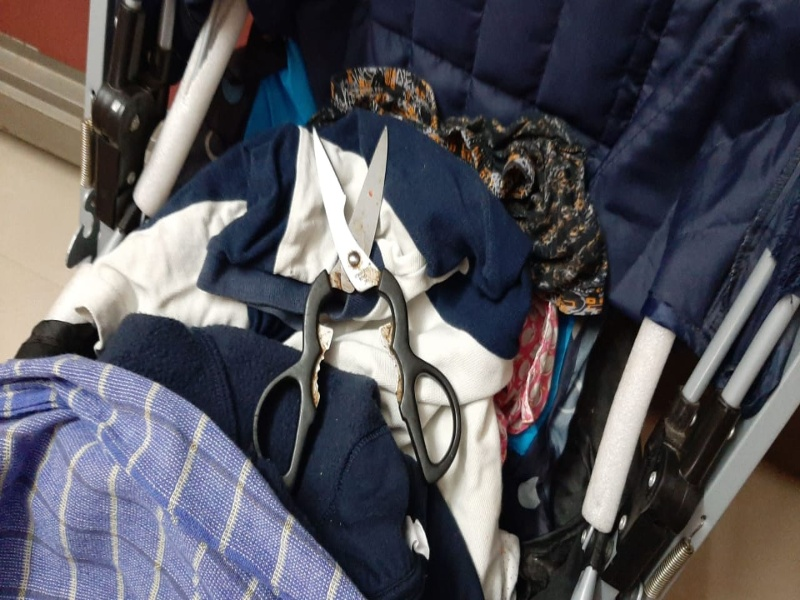scissor: (246, 111, 468, 492)
